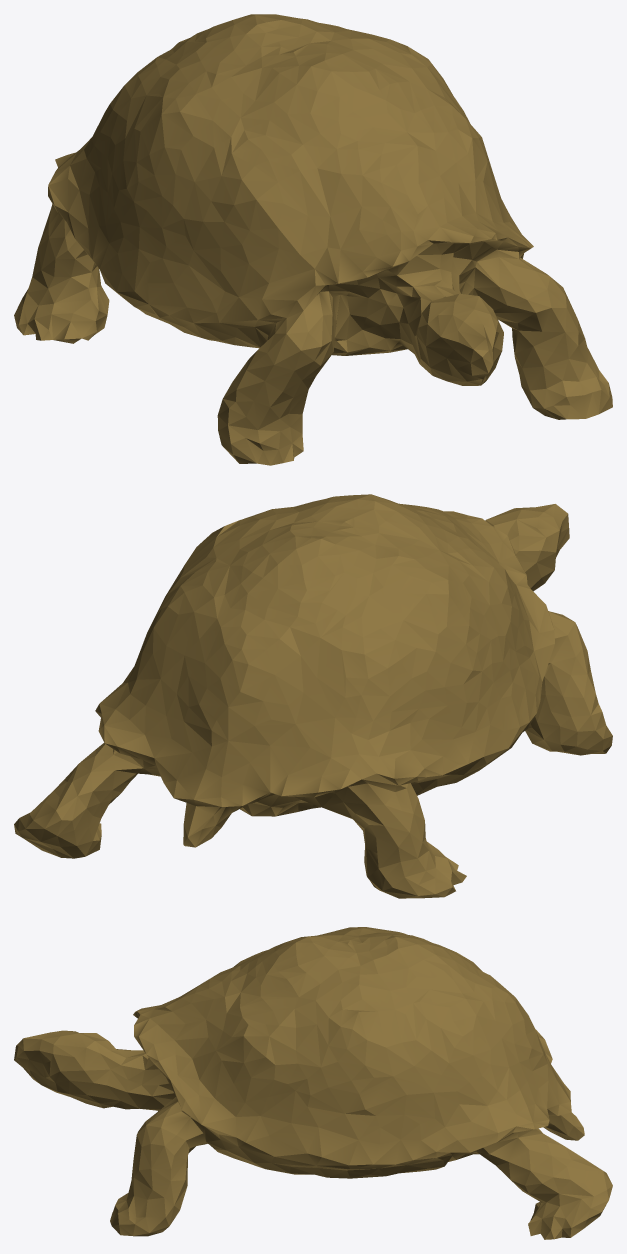
File: seychelles_giant_tortoise.glb
3 renders of one model, top to bottom at view 1: azimuth 30°, elevation 25°; view 2: azimuth 150°, elevation 25°; view 3: azimuth 270°, elevation 25°, orthographic. The views are drawn at different scales.
Parts seen in each view (by area): view 1: Object_2; view 2: Object_2; view 3: Object_2.
Part boxes in pixels (x1,y1,x2,y2): Object_2: (14, 14, 612, 465); Object_2: (14, 494, 612, 898); Object_2: (14, 927, 612, 1239).
Bounding box in the file's own units: 0.4512 × 0.3207 × 0.751.
